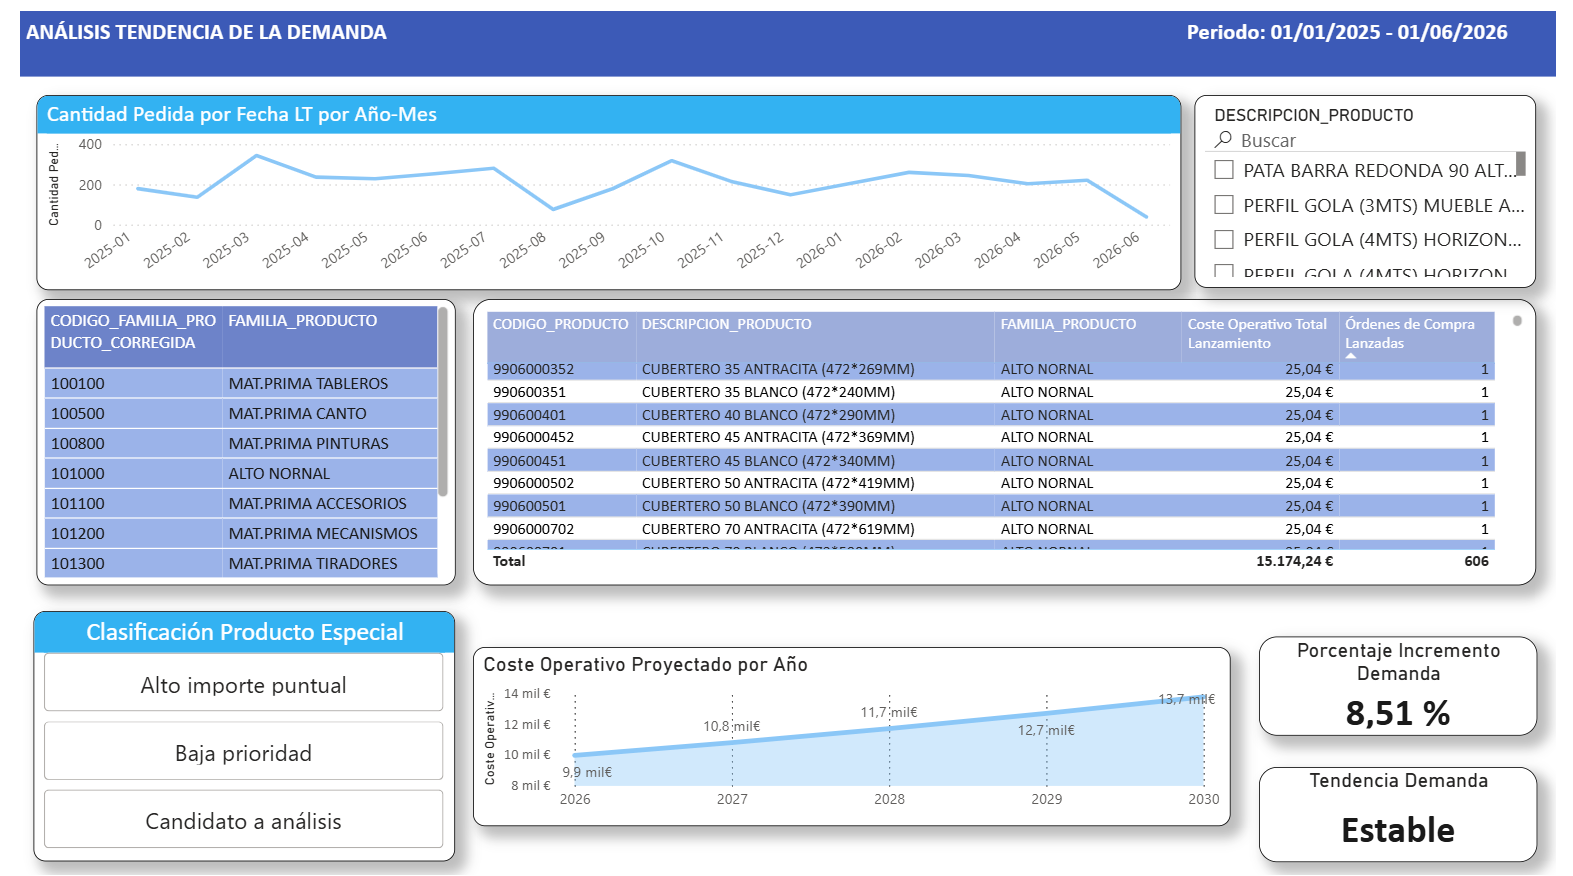

The dashboard page shown, as its layout file describes it:
{"tool":"powerbi","page":{"name":"Análisis Tendencia de la Demanda","canvas":[1280,720],"ordinal":3},"visuals":[{"type":"textbox","box":[0,0,1280.5,54.7],"z":0},{"type":"lineChart","fields":{"Y":["FACT_VENTAS.Cantidad Pedida por Fecha LT"],"Category":["CALENDARIO.Año-Mes"]},"box":[13.3,69.6,954.1,162.3],"z":1000},{"type":"tableEx","fields":{"Values":["PRODUCTOS_COMPLETOS.CODIGO_FAMILIA_PRODUCTO_CORREGIDA","FAMILIA_PRODUCTOS.FAMILIA_PRODUCTO"]},"box":[13.3,240.2,349.5,238.5],"z":2000},{"type":"tableEx","fields":{"Values":["PRODUCTOS_COMPLETOS.CODIGO_PRODUCTO","PRODUCTOS_COMPLETOS.DESCRIPCION_PRODUCTO","FAMILIA_PRODUCTOS.FAMILIA_PRODUCTO","FACT_VENTAS.Coste Operativo Total Lanzamiento","FACT_VENTAS.Órdenes de Compra Lanzadas"]},"box":[377.7,240.2,886.2,238.5],"z":3000},{"type":"card","title":"Porcentaje Incremento Demanda","fields":{"Values":["MEDIAS_DEMANDA.Porcentaje Incremento Demanda Media Mensual"]},"box":[1032,521.8,231.9,82.8],"z":4000},{"type":"card","title":"Tendencia Demanda","fields":{"Values":["MEDIAS_DEMANDA.Tendencia Demanda"]},"box":[1032,629.5,231.9,79.5],"z":5000},{"type":"advancedSlicerVisual","fields":{"Values":["PRODUCTOS_COMPLETOS.Clasificación Producto Especial"]},"box":[11.6,500.3,351.2,208.7],"z":6000},{"type":"lineChart","fields":{"Category":["ANOS_PROYECCION.Año"],"Y":["MEDIAS_DEMANDA.Coste Operativo Proyectado"]},"box":[377.7,530.1,631.1,149.1],"z":7000},{"type":"slicer","fields":{"Values":["PRODUCTOS_COMPLETOS.DESCRIPCION_PRODUCTO"]},"box":[979,69.6,284.9,160.7],"z":8000}]}

Visuals, with their boxes in screenshot pixels (x1, y1, x2, y2), scaled from the page's 1280x720 canvas onto the 1573x876 screenshot:
textbox: crop(0, 0, 1572, 67)
lineChart - FACT_VENTAS.Cantidad Pedida por Fecha LT x CALENDARIO.Año-Mes: crop(16, 85, 1189, 282)
tableEx - PRODUCTOS_COMPLETOS.CODIGO_FAMILIA_PRODUCTO_CORREGIDA x FAMILIA_PRODUCTOS.FAMILIA_PRODUCTO: crop(16, 292, 446, 582)
tableEx - PRODUCTOS_COMPLETOS.CODIGO_PRODUCTO x PRODUCTOS_COMPLETOS.DESCRIPCION_PRODUCTO: crop(464, 292, 1553, 582)
"Porcentaje Incremento Demanda" card: crop(1268, 635, 1553, 736)
"Tendencia Demanda" card: crop(1268, 766, 1553, 863)
advancedSlicerVisual - PRODUCTOS_COMPLETOS.Clasificación Producto Especial: crop(14, 609, 446, 863)
lineChart - ANOS_PROYECCION.Año x MEDIAS_DEMANDA.Coste Operativo Proyectado: crop(464, 645, 1240, 826)
slicer - PRODUCTOS_COMPLETOS.DESCRIPCION_PRODUCTO: crop(1203, 85, 1553, 280)
